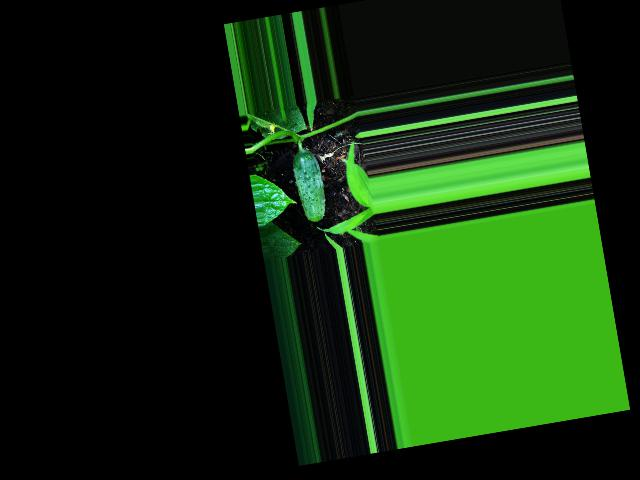cucumber: (290, 147, 330, 225)
